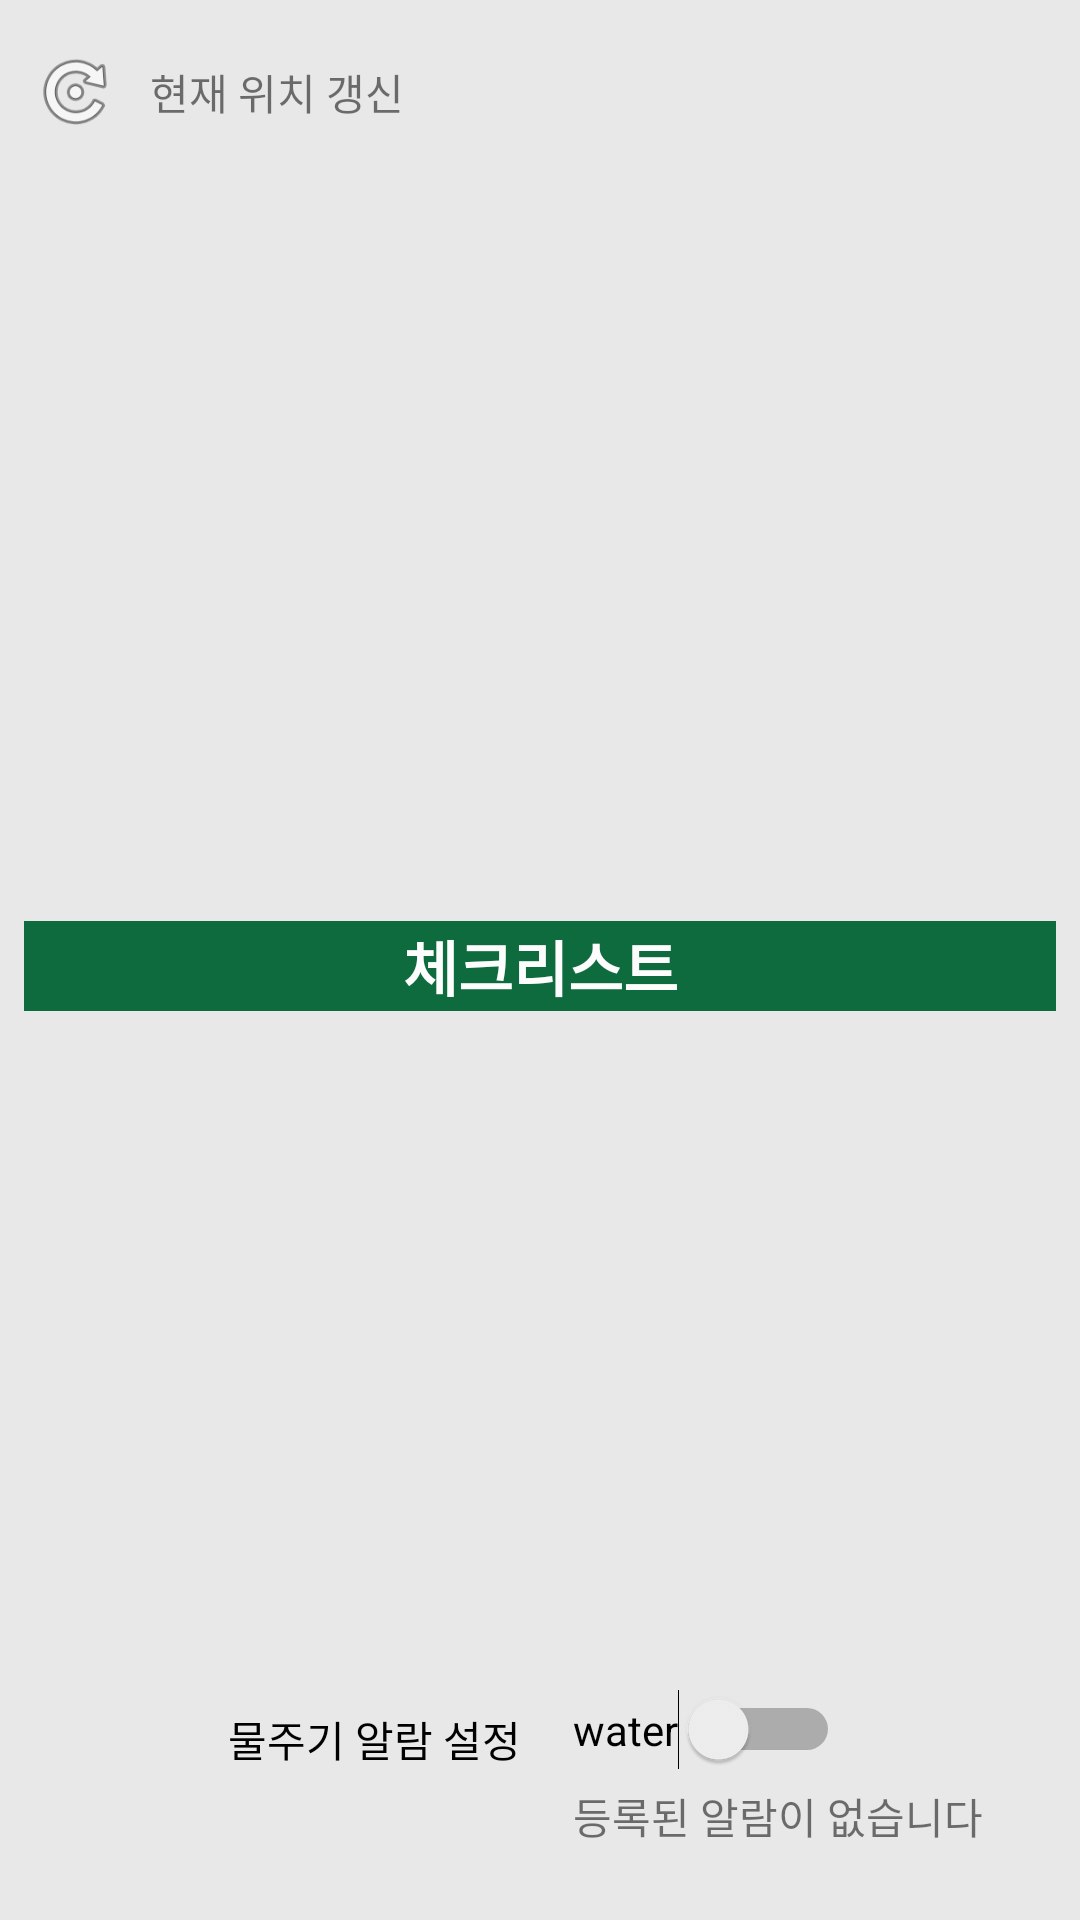

Screen size 1080x1920. Icon name, then its box in pixels as {"left": x1, "top": y1, "right": x2, "bottom": y2}:
rotate: {"left": 43, "top": 59, "right": 107, "bottom": 125}
